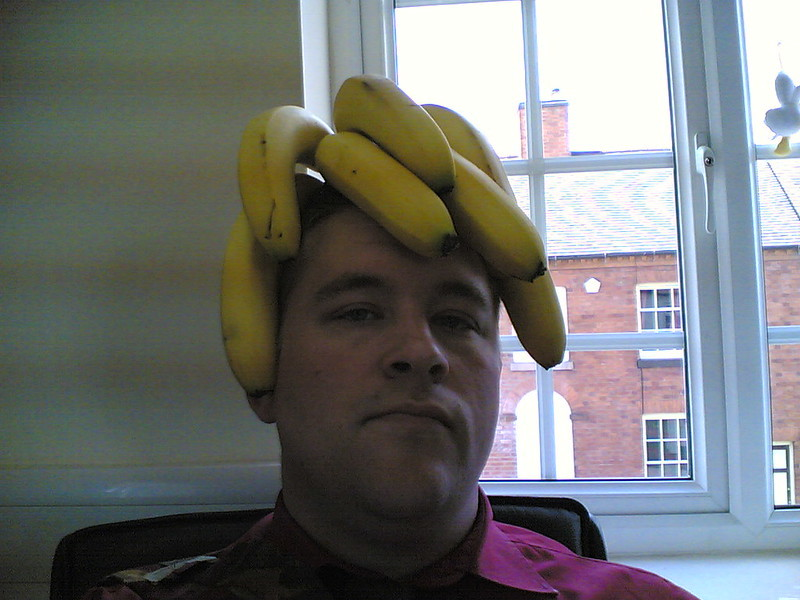banana: (226, 73, 575, 403)
